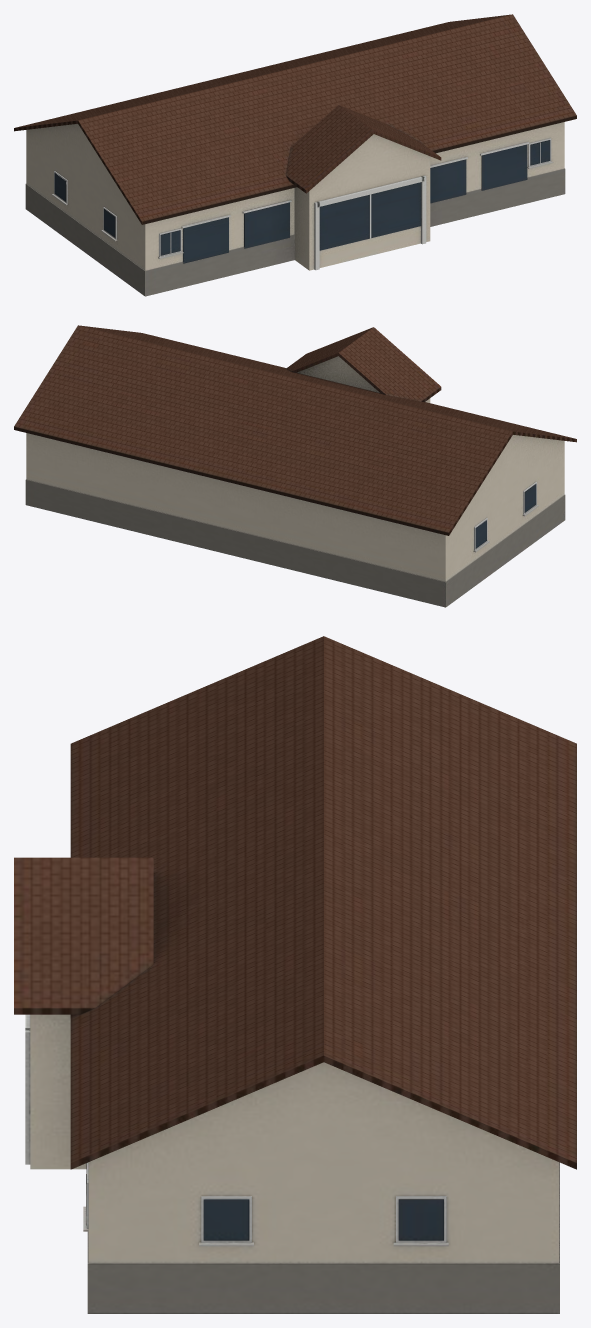
The model's file is salon.glb.
The picture shows the model from 3 angles, top to bottom: view 1: azimuth 30°, elevation 25°; view 2: azimuth 150°, elevation 25°; view 3: azimuth 270°, elevation 25°; orthographic projection. The views are drawn at different scales.
Visible parts, largest first — view 1: salon; view 2: salon; view 3: salon.
Part boxes in pixels (x1=…): salon: x1=14, y1=14, x2=576, y2=296; salon: x1=14, y1=325, x2=576, y2=607; salon: x1=14, y1=636, x2=576, y2=1313.
Bounding box in the file's own units: 30.6 × 9.02 × 17.35.
1 material, 1 textured.
